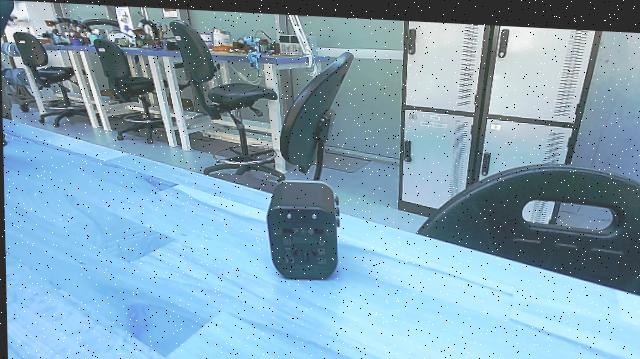adapter: (267, 175, 343, 284)
